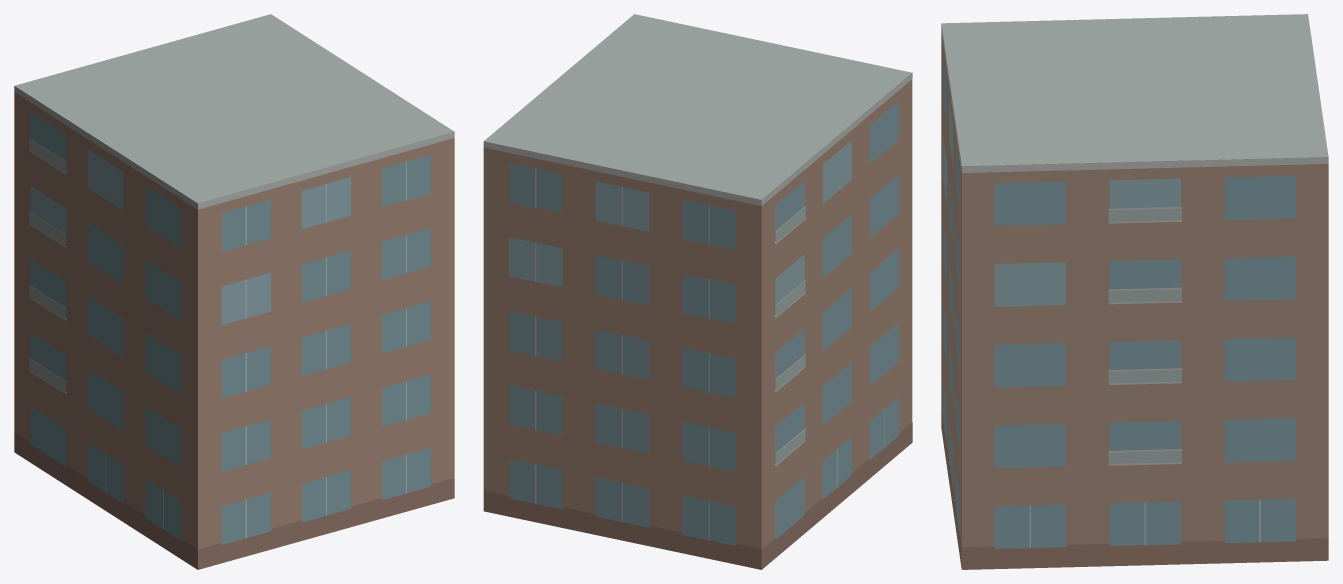
Rendered from survey-upis-32748069.glb.
3 views of the same model, side by side, from view 1: azimuth 30°, elevation 25°; view 2: azimuth 150°, elevation 25°; view 3: azimuth 270°, elevation 25° (orthographic). The views are drawn at different scales.
Parts seen in each view (by area): view 1: survey-upis-32748069.tmp; view 2: survey-upis-32748069.tmp; view 3: survey-upis-32748069.tmp.
Part boxes in pixels (left/top/right/bottom): survey-upis-32748069.tmp: left=14, top=14, right=454, bottom=569; survey-upis-32748069.tmp: left=483, top=14, right=912, bottom=569; survey-upis-32748069.tmp: left=941, top=14, right=1328, bottom=569.
Size of the model in its own units: 11.57 by 14.3 by 12.45.
